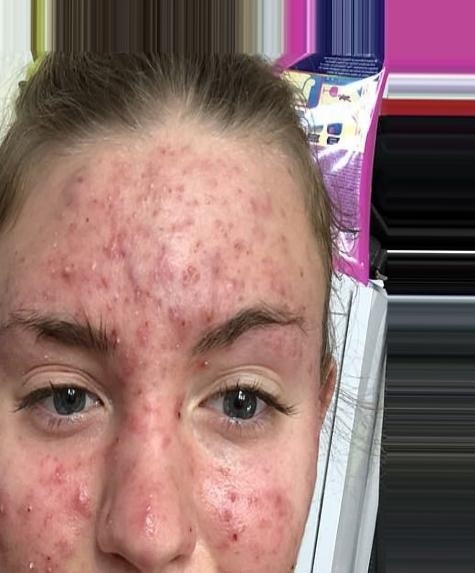Acne: (20, 148, 303, 560)
